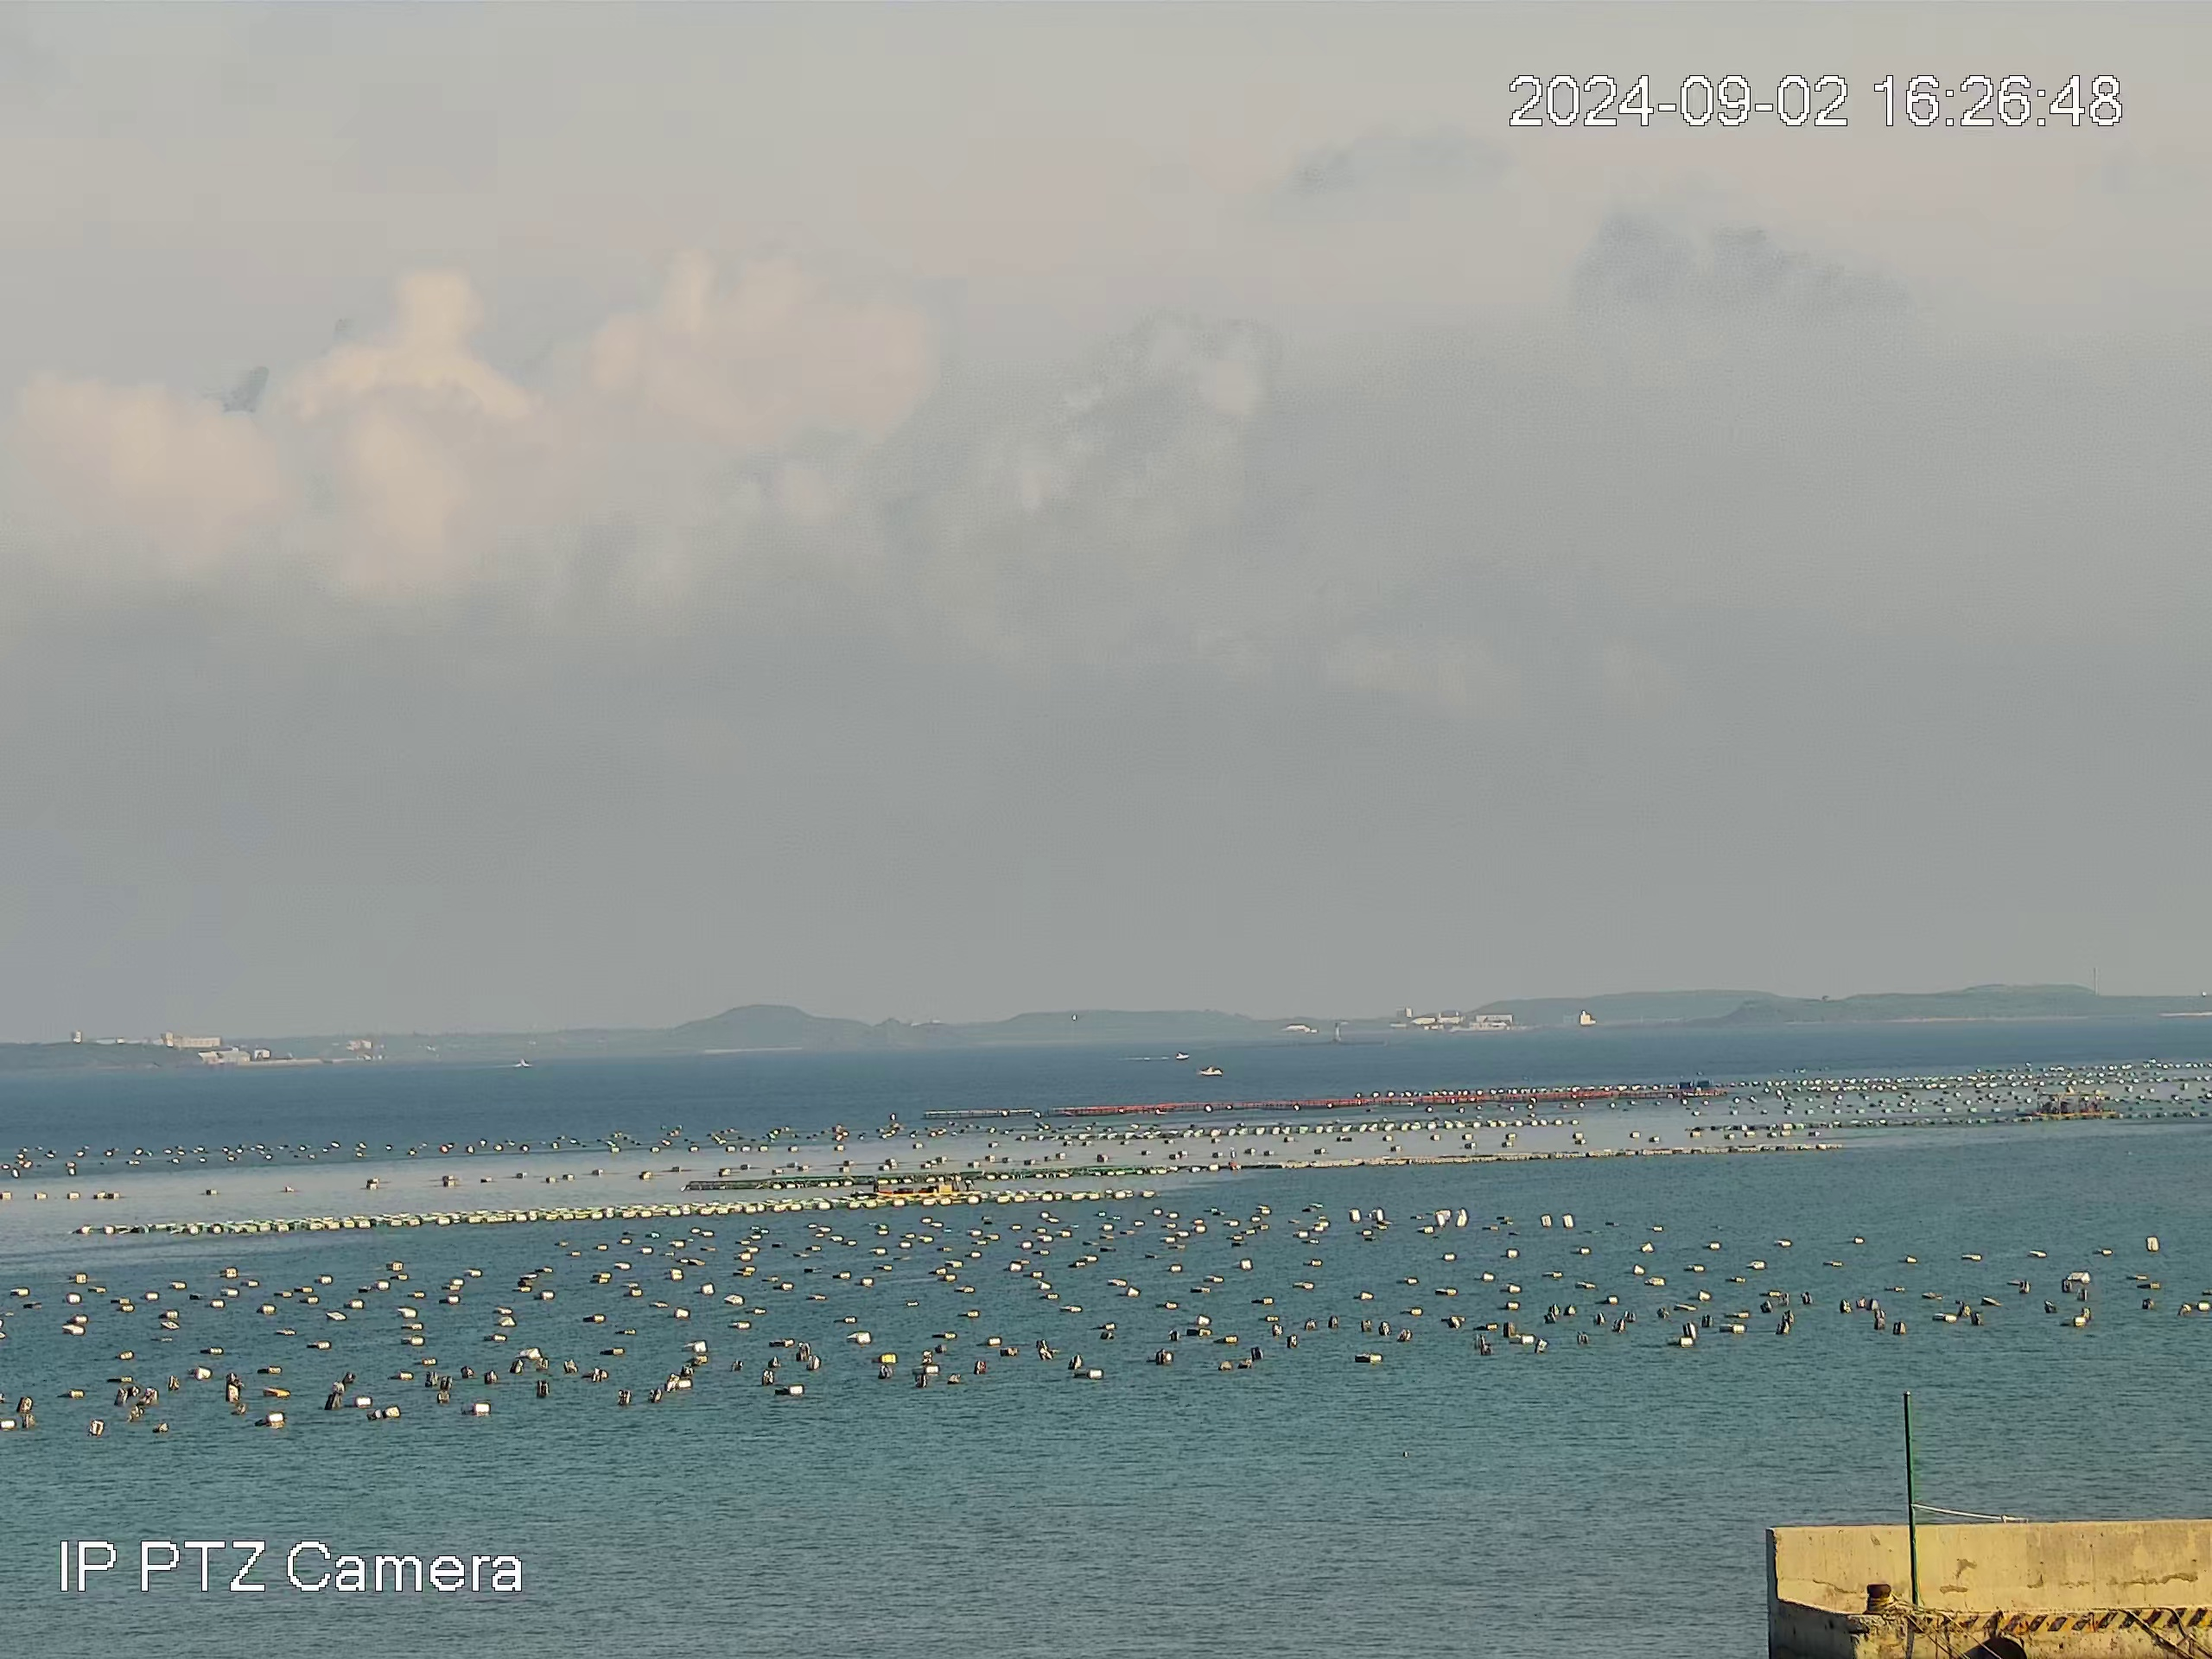boat: (2033, 1091, 2120, 1122), (871, 1173, 982, 1197), (1198, 1065, 1223, 1077), (1174, 1051, 1191, 1060)
